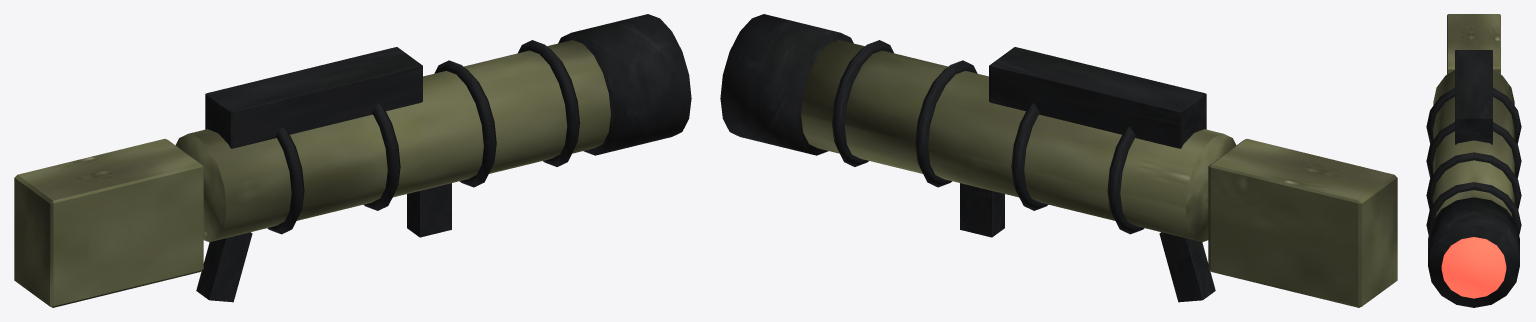
The model's file is gun_aegis_beam.glb.
3 renders of one model, left to right at view 1: azimuth 30°, elevation 25°; view 2: azimuth 150°, elevation 25°; view 3: azimuth 270°, elevation 25°, orthographic. The views are drawn at different scales.
Parts seen in each view (by area): view 1: gun_aegis_beam; view 2: gun_aegis_beam; view 3: gun_aegis_beam.
Part boxes in pixels (bbox=[...]): gun_aegis_beam: bbox=[14, 14, 691, 307]; gun_aegis_beam: bbox=[720, 14, 1397, 307]; gun_aegis_beam: bbox=[1426, 14, 1521, 307].
Bounding box in the file's own units: 0.9925 × 0.2937 × 0.176.
Materials: 3 (2 with a texture image).
